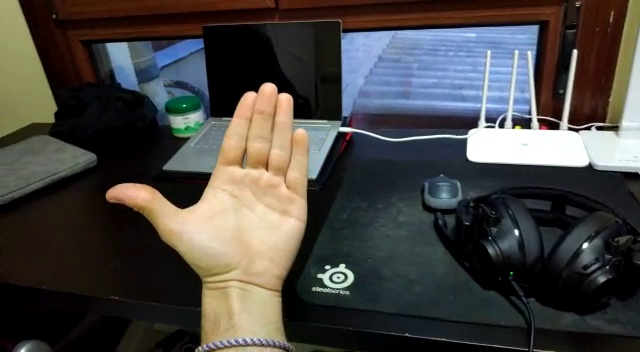Palm: (104, 81, 310, 307)
